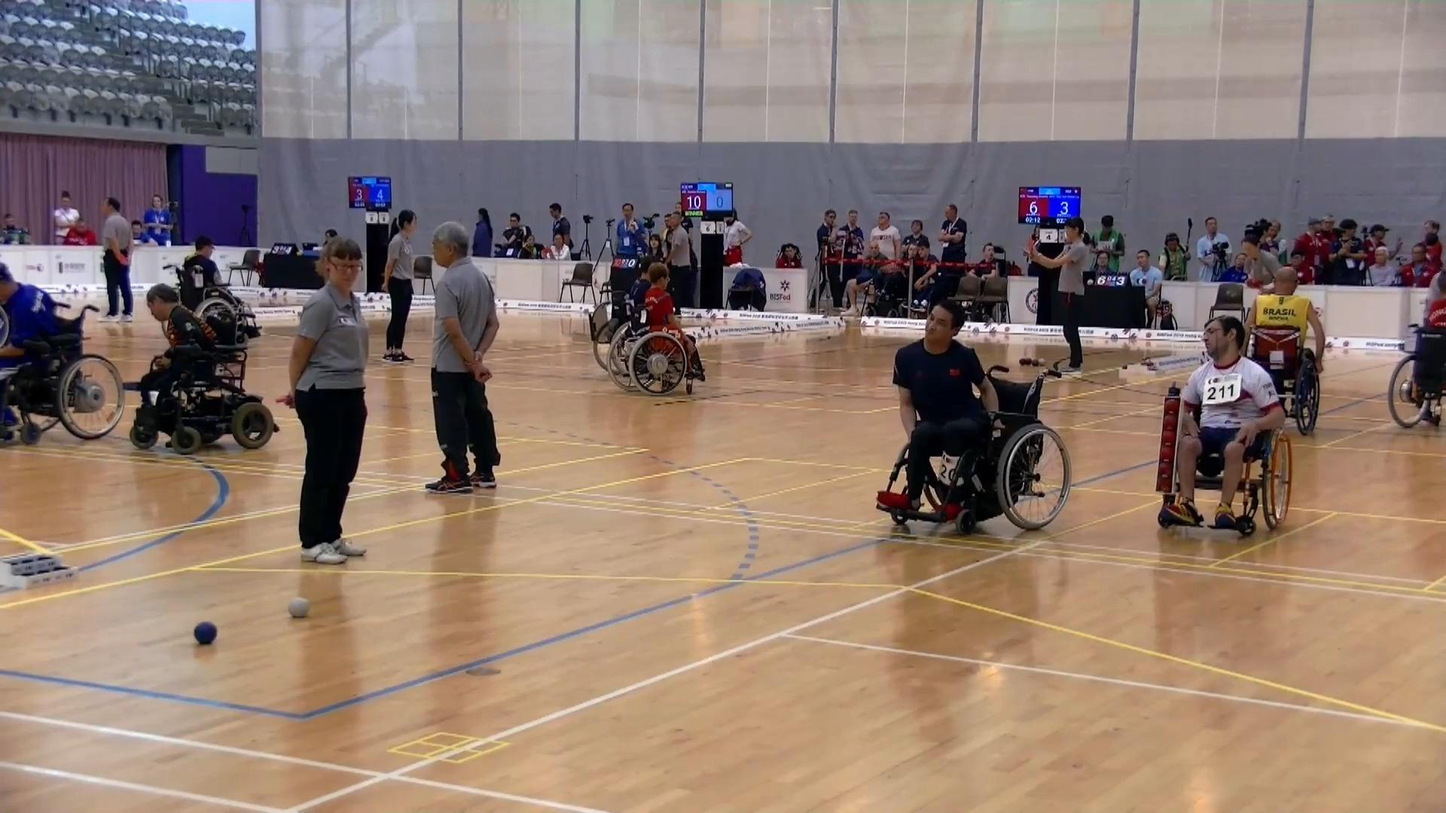blue_ball: (194, 622, 217, 644)
white_ball: (289, 596, 310, 619)
